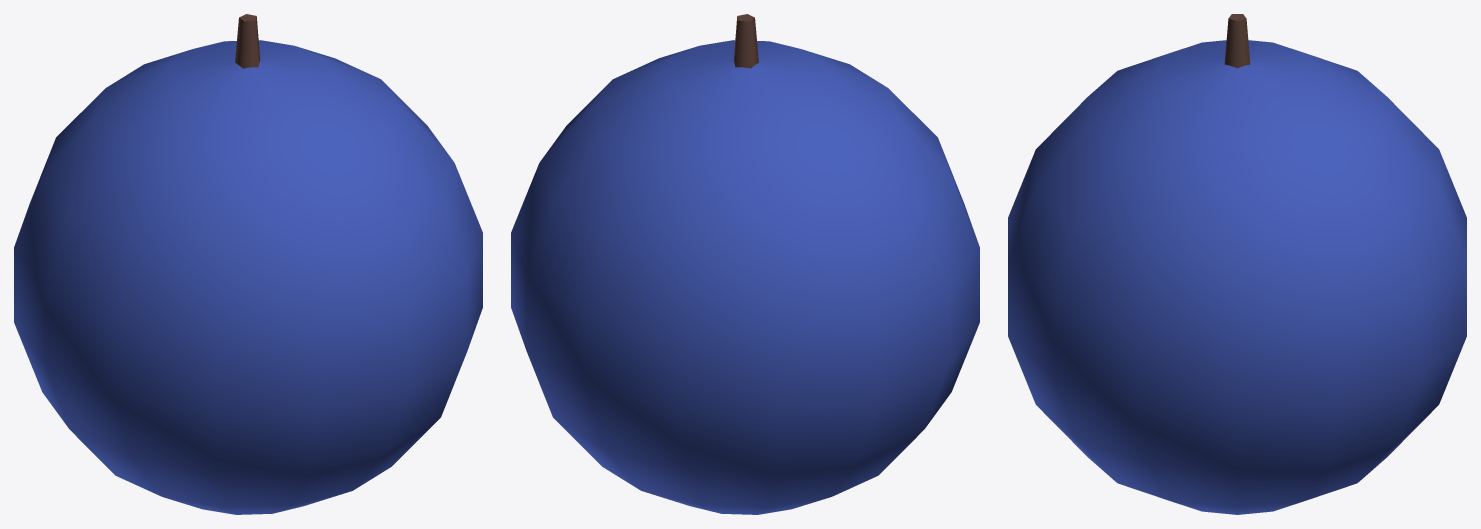
The model's file is fruit-blueberry-plain.gltf.
3 renders of one model, left to right at view 1: azimuth 30°, elevation 25°; view 2: azimuth 150°, elevation 25°; view 3: azimuth 270°, elevation 25°, orthographic.
Bounding box in the file's own units: 0.2364 × 0.264 × 0.2304.
